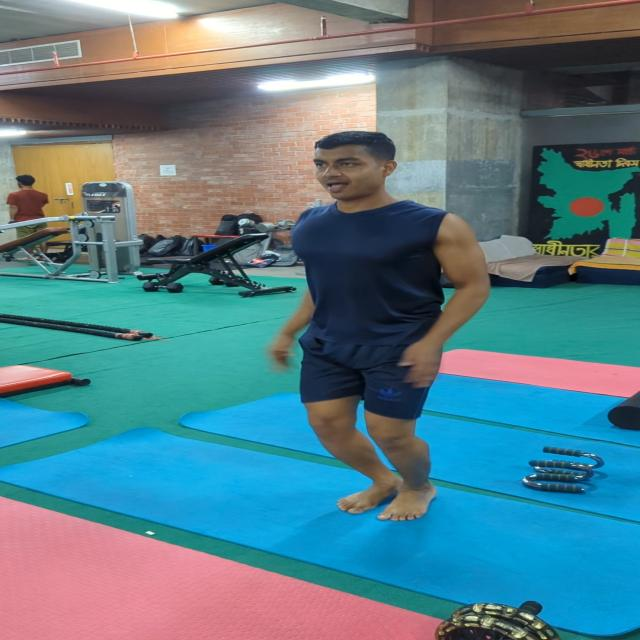Normal_JumpingJacks: (205, 127, 492, 533)
